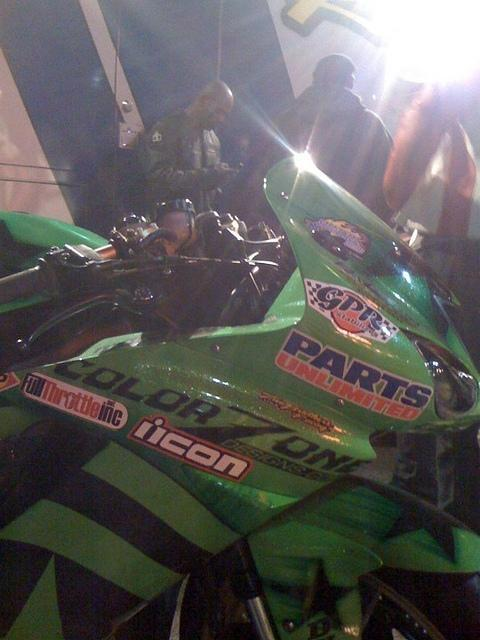motorcycle: (0, 142, 480, 633), (3, 210, 154, 275)
